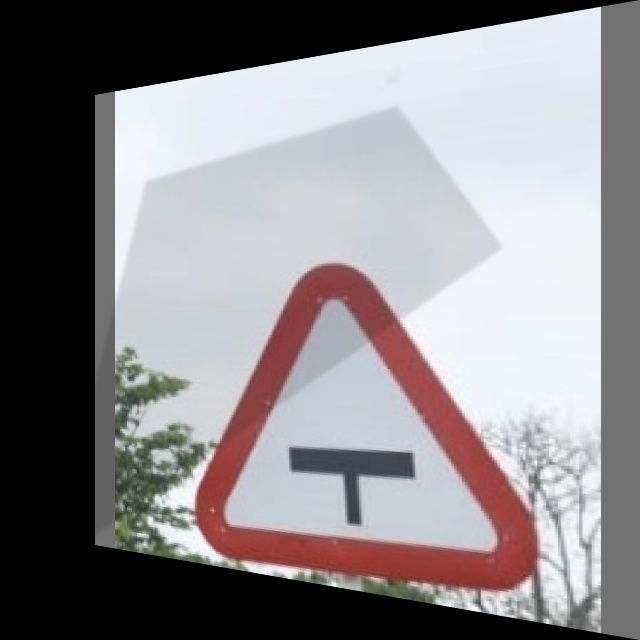T_Intersection: (201, 257, 537, 594)
